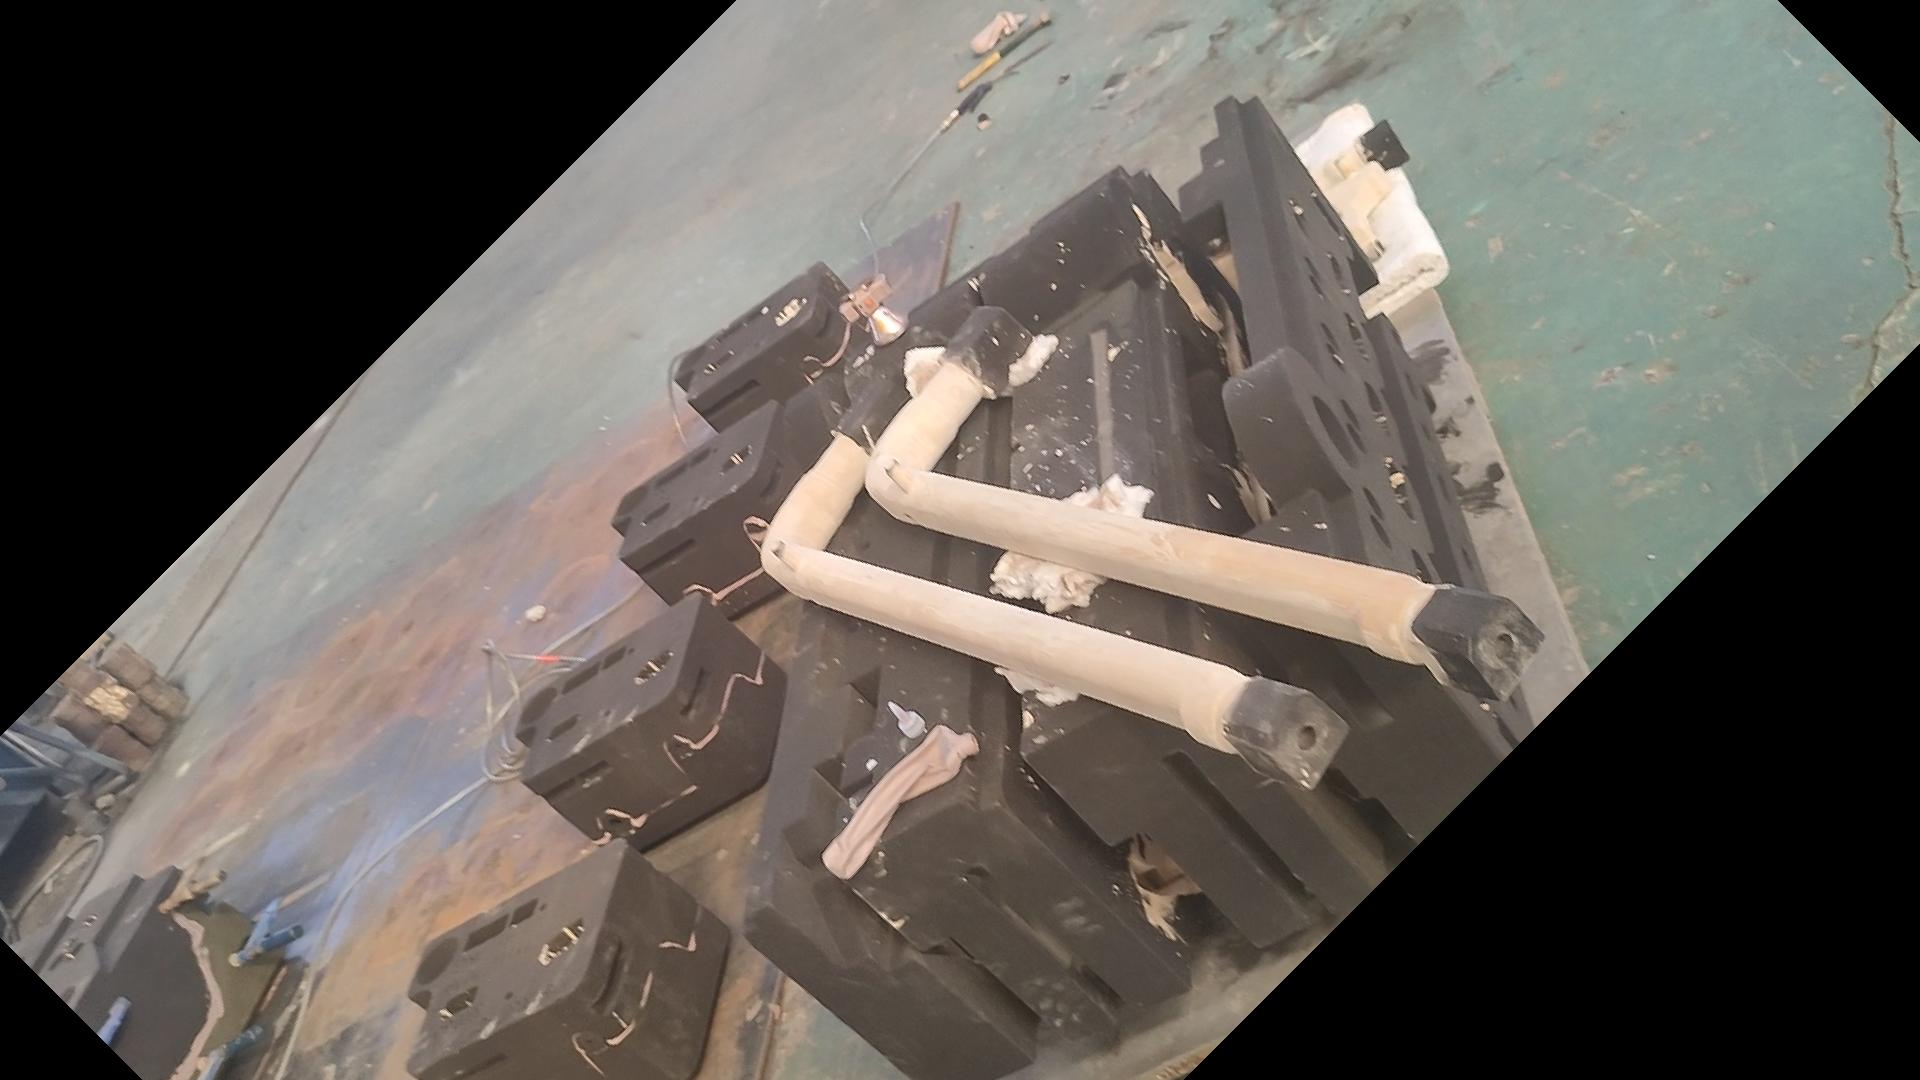pouring hole: (1311, 394, 1361, 468), (414, 938, 458, 984), (518, 686, 556, 724), (615, 483, 649, 516), (676, 344, 707, 375), (45, 986, 76, 1010)
